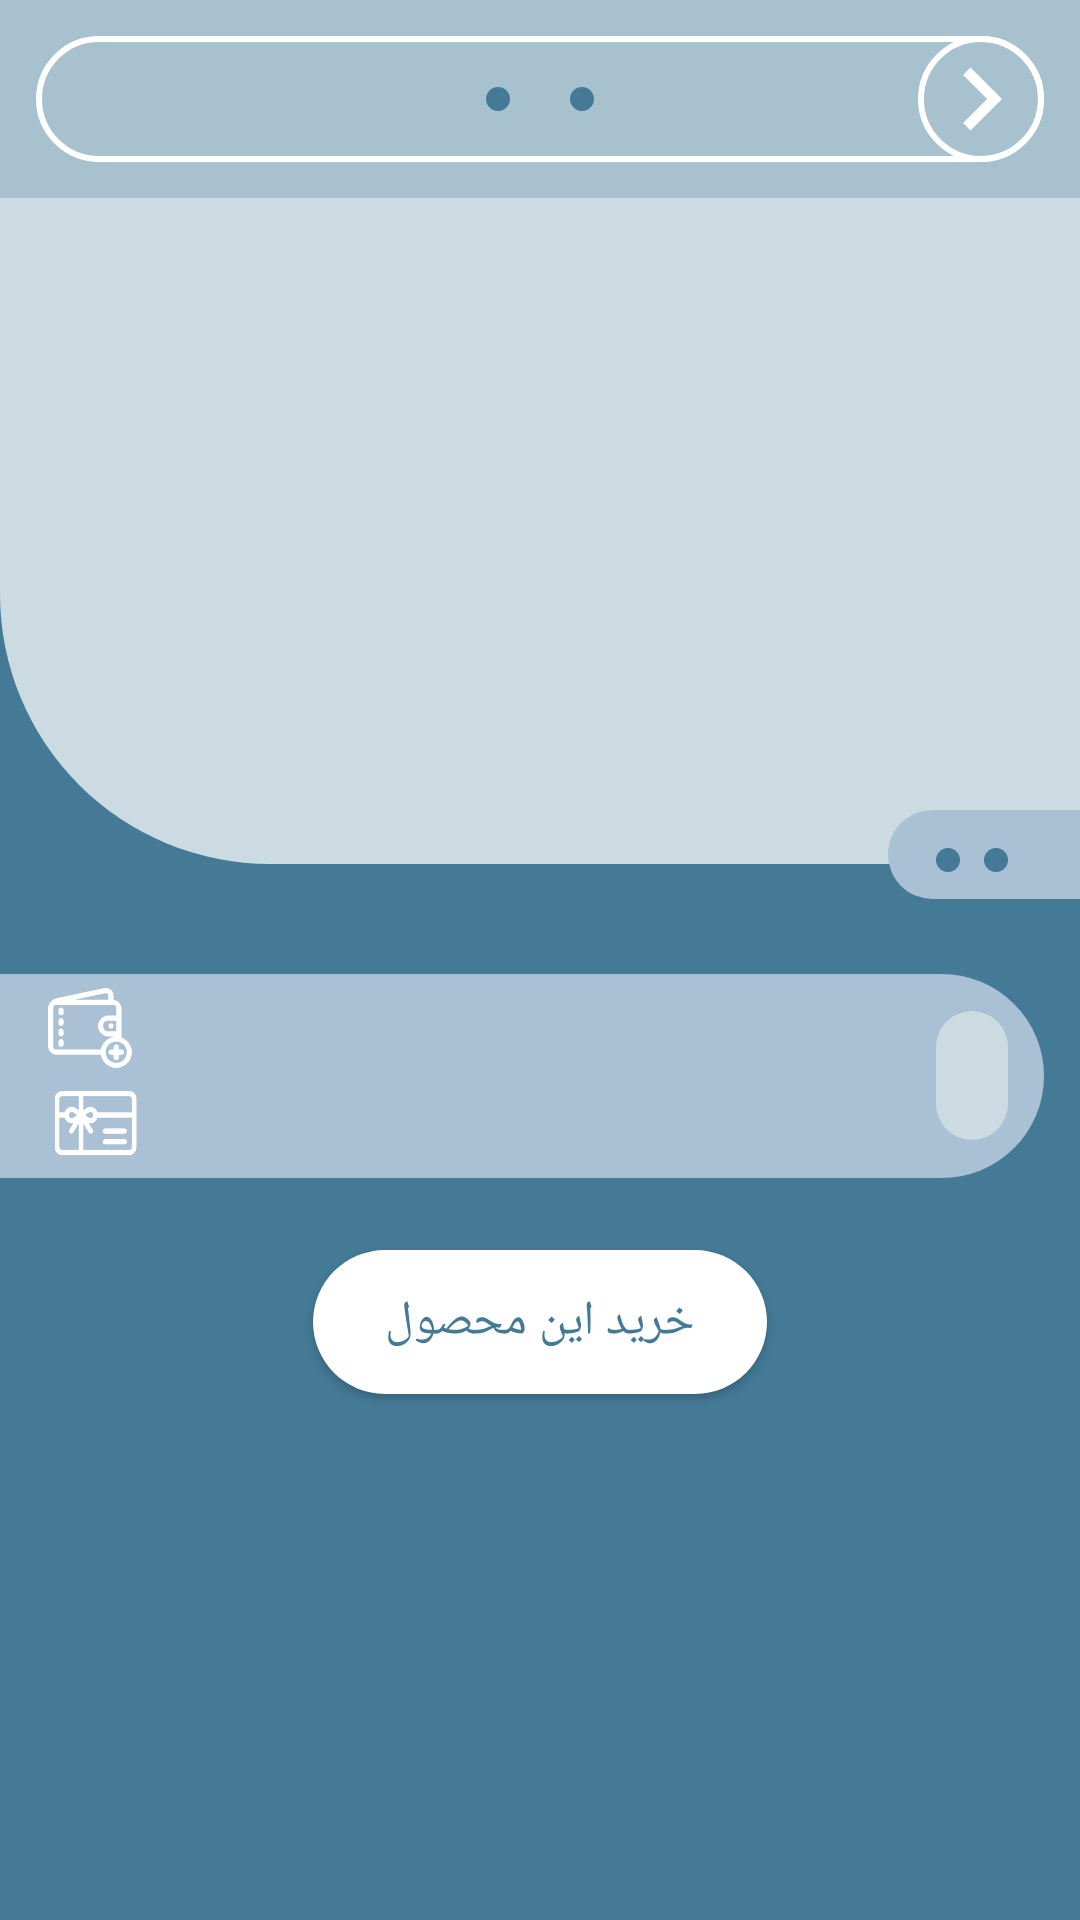

Screen size 1080 × 1920. Icon name, then its center in pixels as [x,y]:
giftcard: [96,1123]
right: [981,99]
wallet: [90,1028]
